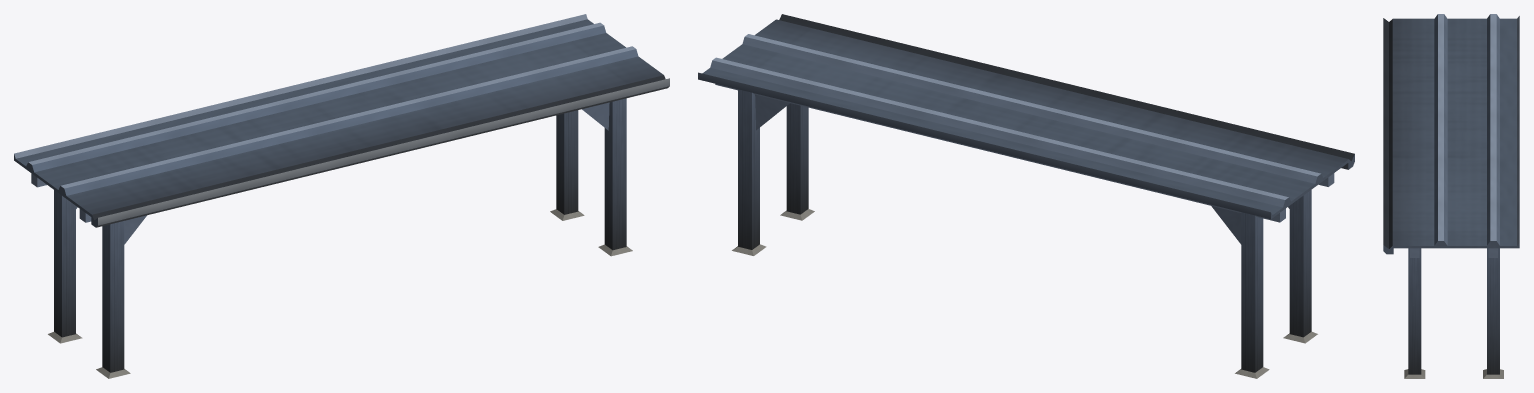
Rendered from dock-canopy-structure-authored-v2.glb.
3 renders of one model, left to right at view 1: azimuth 30°, elevation 25°; view 2: azimuth 150°, elevation 25°; view 3: azimuth 270°, elevation 25°, orthographic. The views are drawn at different scales.
Visible parts, largest first — view 1: Dock-canopy-structureBody; view 2: Dock-canopy-structureBody; view 3: Dock-canopy-structureBody.
Part boxes in pixels (x1,y1,x2,y2): Dock-canopy-structureBody: (14,14,669,378); Dock-canopy-structureBody: (698,14,1354,378); Dock-canopy-structureBody: (1383,14,1519,378).
Bounding box in the file's own units: 20.5 × 6.2 × 5.2.
1 material, 1 textured.
